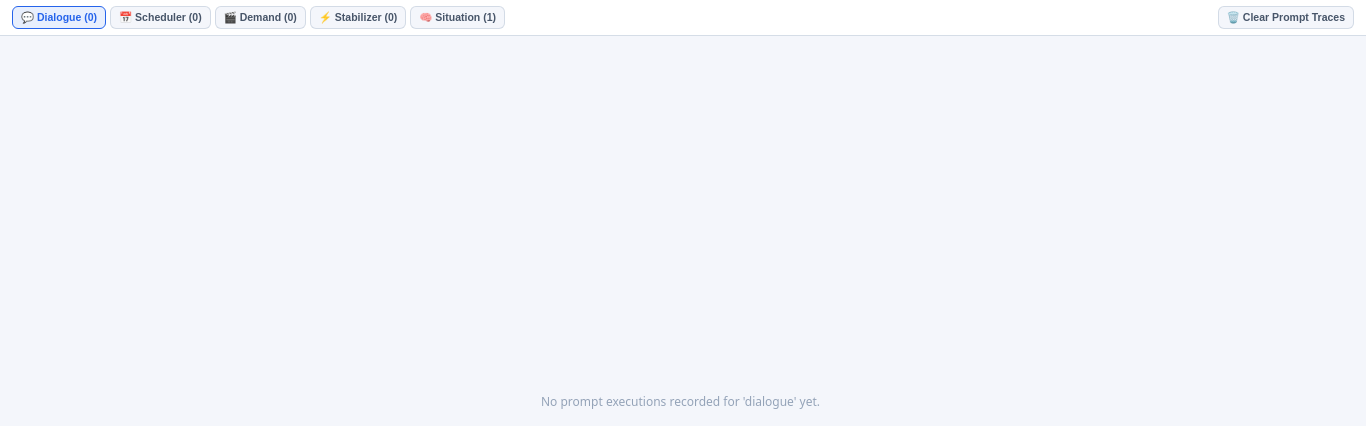
Test: DevToolsPromptsTab — situation category › lists the Gemma distillation trace when Situation is selected
Click the button "🧠 Situation (1)" at (458, 18), box [410,6,505,29]
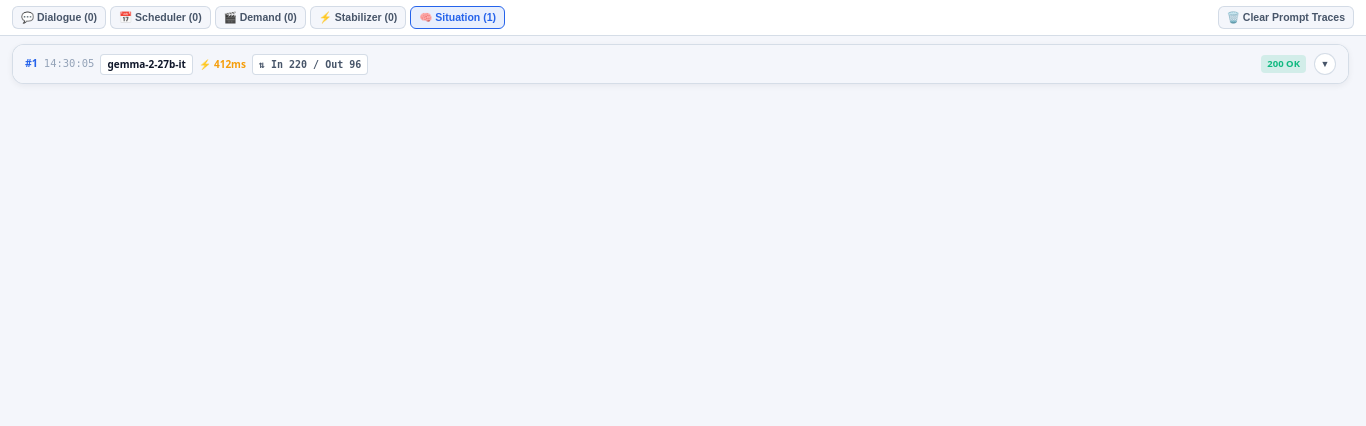
Expected: the text "gemma-2-27b-it" is shown, [100,54,193,74]
Expected: the text "⚡ 412ms" is shown, [199,56,246,72]
Expand the trace to reveal the captured request/response payloads.
Click the text "14:30:05" at (69, 64), box [44,56,94,72]
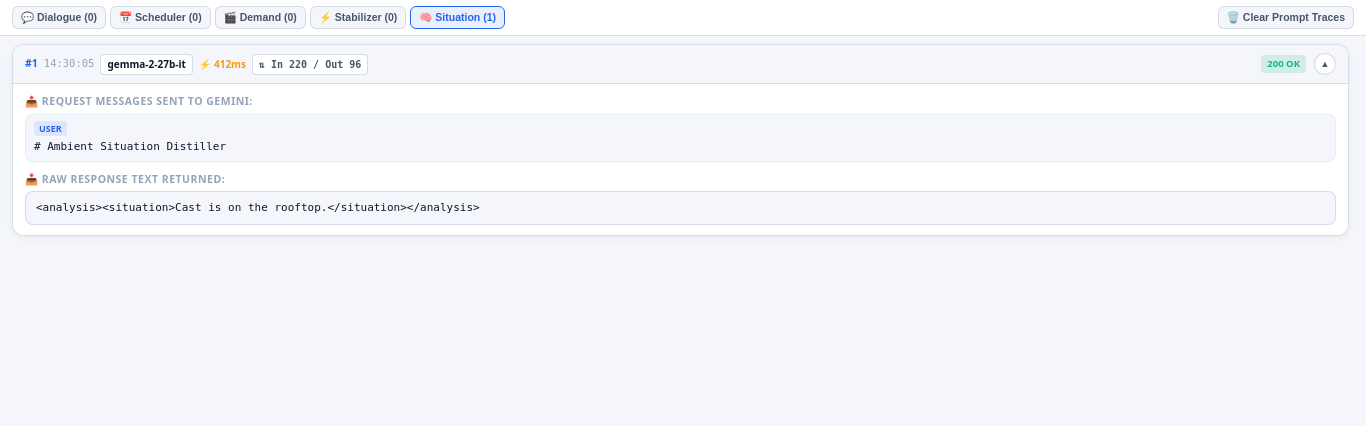
Expected: the text "# Ambient Situation Distiller" is shown, [34,140,226,153]
Expected: the text "Cast is on the rooftop." is shown, [36,201,480,214]
